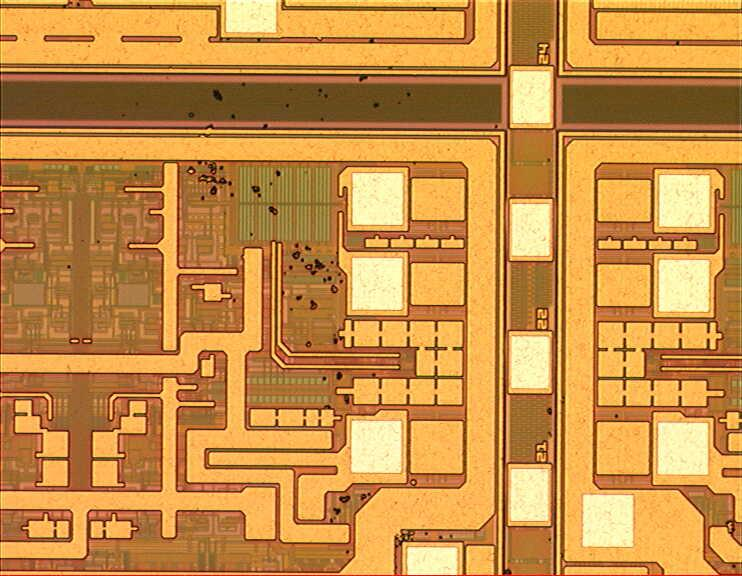PO CONTAMINATION: (59, 1, 683, 576)
